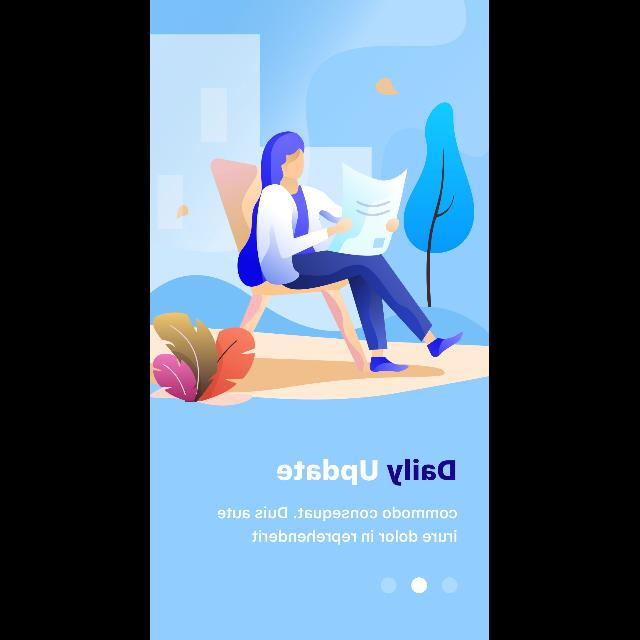image: (150, 2, 488, 408)
pageindicator: (381, 576, 459, 594)
text: (217, 506, 458, 546), (278, 458, 457, 486)
